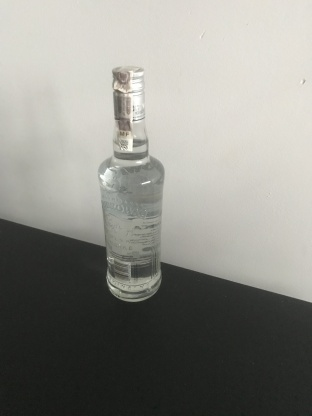nakretka: (110, 64, 147, 126)
